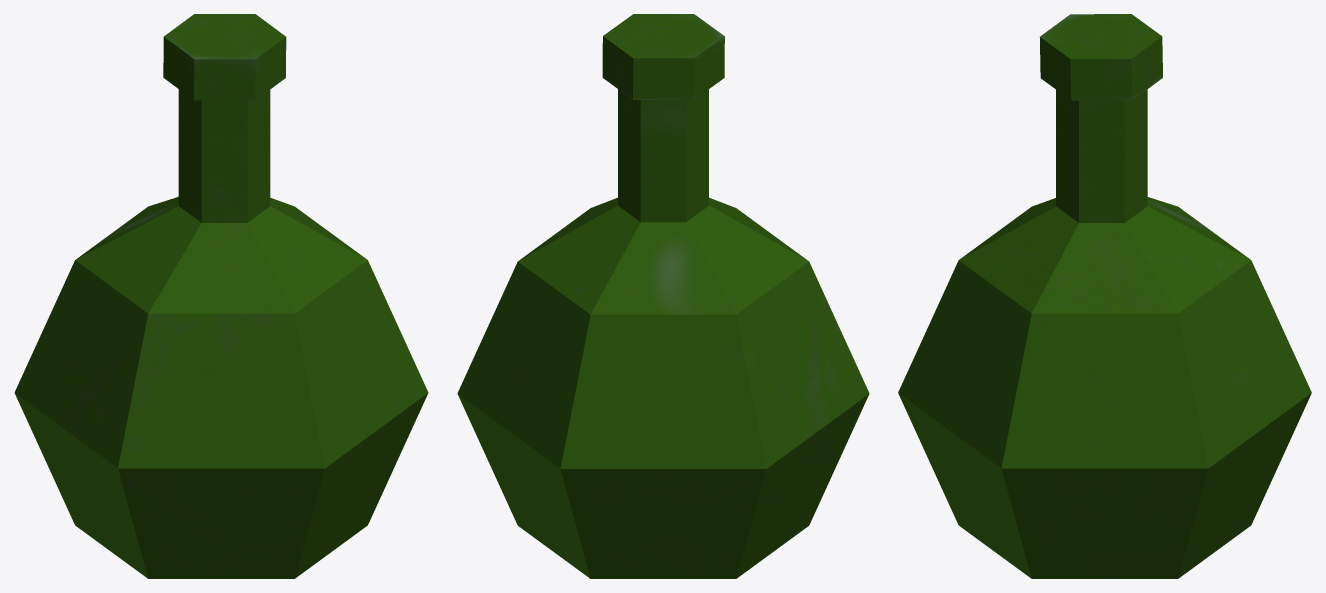
Rendered from Bottle_B.fbx.
The picture shows the model from 3 angles, left to right: view 1: azimuth 30°, elevation 25°; view 2: azimuth 150°, elevation 25°; view 3: azimuth 270°, elevation 25°; orthographic projection.
Parts seen in each view (by area): view 1: Bottle B; view 2: Bottle B; view 3: Bottle B.
Part boxes in pixels (x1,y1,x2,y2): Bottle B: [14, 14, 428, 578]; Bottle B: [457, 14, 869, 578]; Bottle B: [898, 14, 1311, 578].
Bounding box in the file's own units: 20.89 × 31.5 × 24.12.
